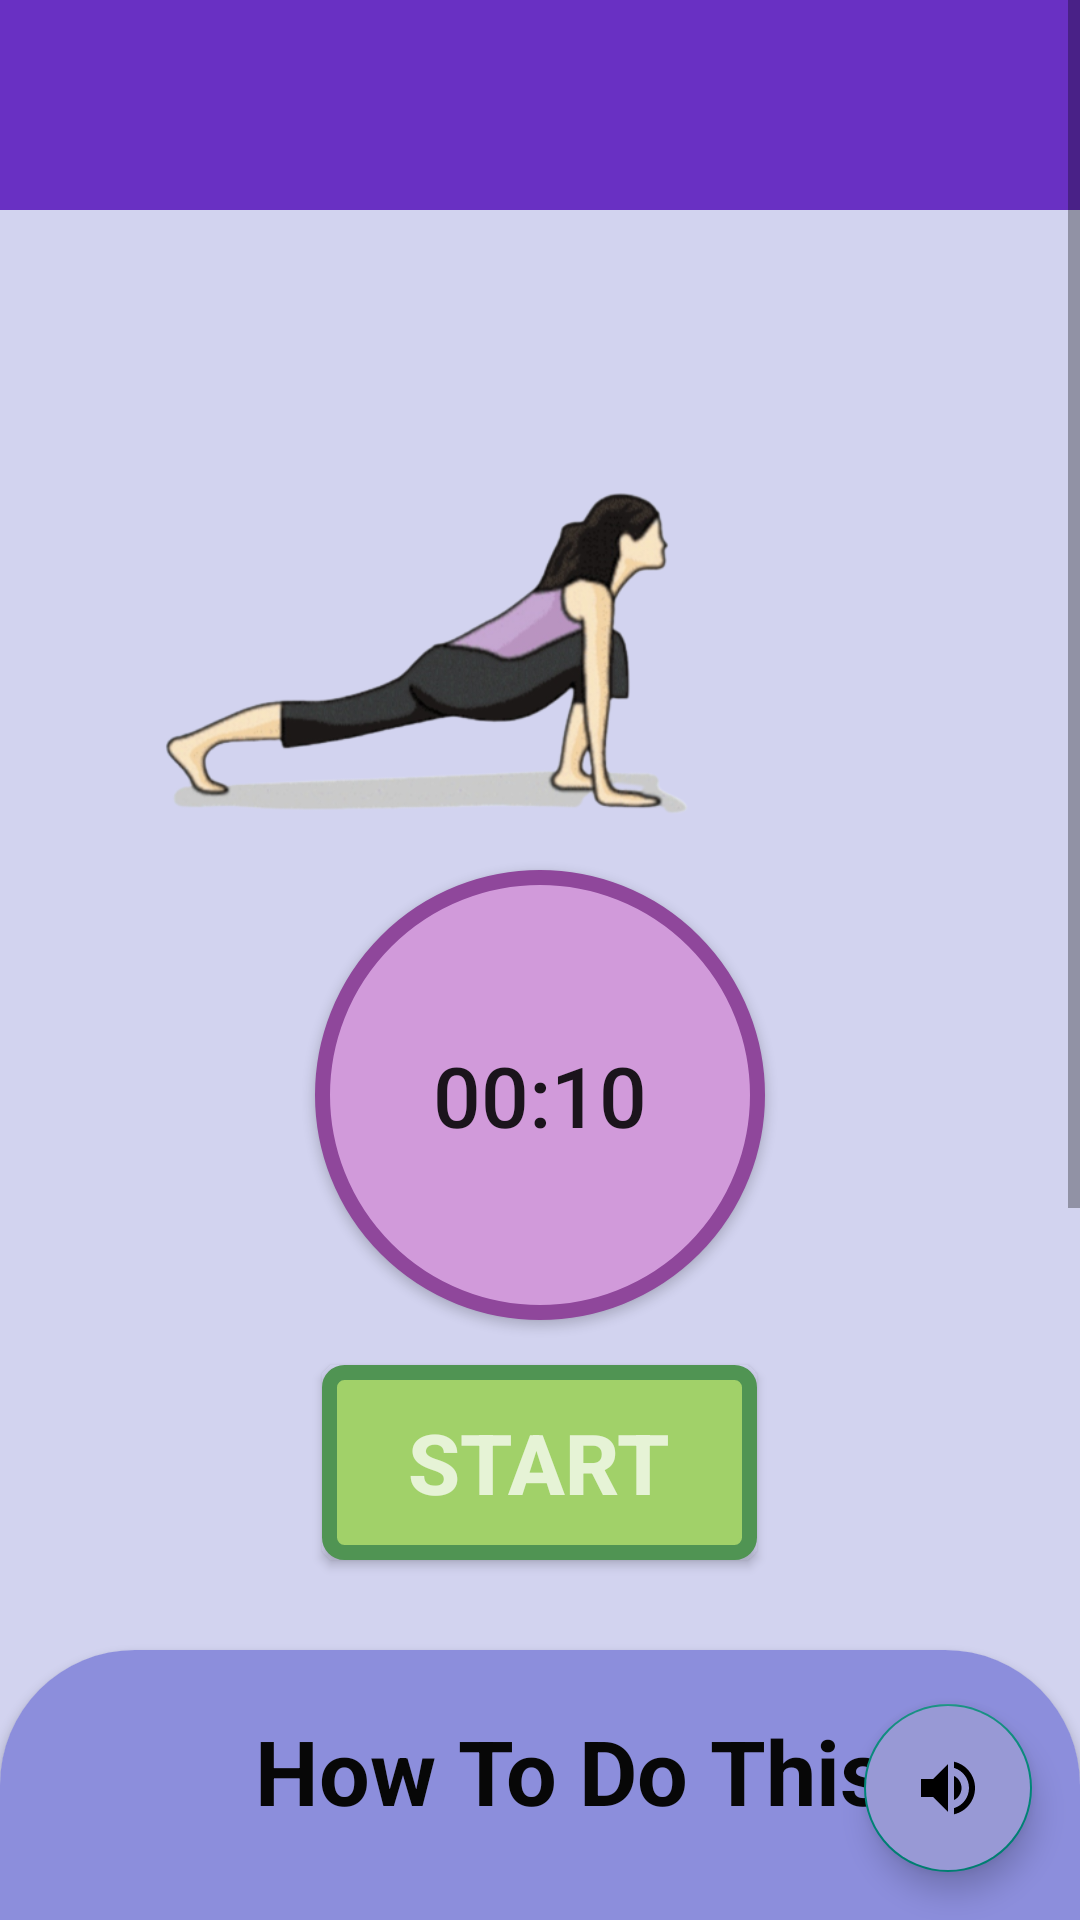

Icons on this 1080px×1920px Android screen, each with its box as {"x1": x1, "y1": y1, "x2": x2, "y2": y2}:
buttun volume up: {"x1": 864, "y1": 1704, "x2": 1032, "y2": 1872}
